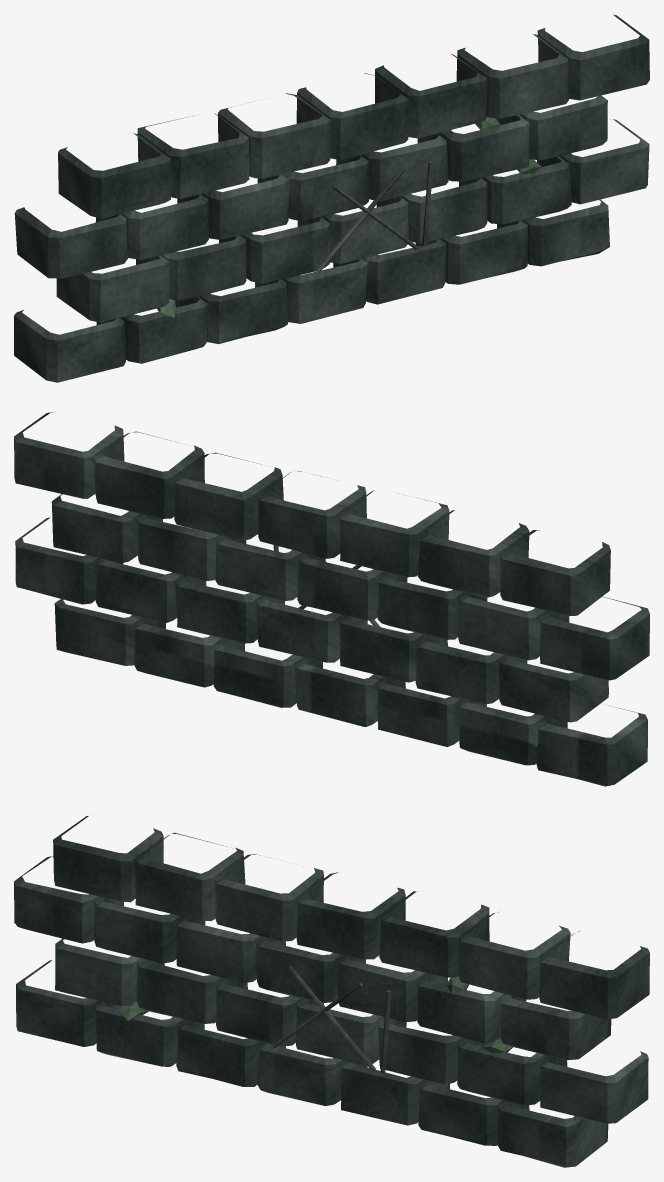
File: 0348_wall_section_23.glb
3 views of the same model, one above another, from view 1: azimuth 30°, elevation 25°; view 2: azimuth 150°, elevation 25°; view 3: azimuth 330°, elevation 25° (orthographic).
Parts seen in each view (by area): view 1: stone_dark, iron, moss; view 2: stone_dark; view 3: stone_dark, iron, moss.
Part boxes in pixels (left/top/right/bottom): stone_dark: left=14, top=14, right=649, bottom=382; iron: left=315, top=161, right=433, bottom=273; moss: left=157, top=116, right=541, bottom=317; stone_dark: left=14, top=412, right=649, bottom=786; stone_dark: left=14, top=816, right=649, bottom=1167; iron: left=272, top=966, right=391, bottom=1073; moss: left=120, top=976, right=512, bottom=1053.
Size of the model in its own units: 4.59 by 1.5 by 0.5984.
Materials: 3 (3 with a texture image).
